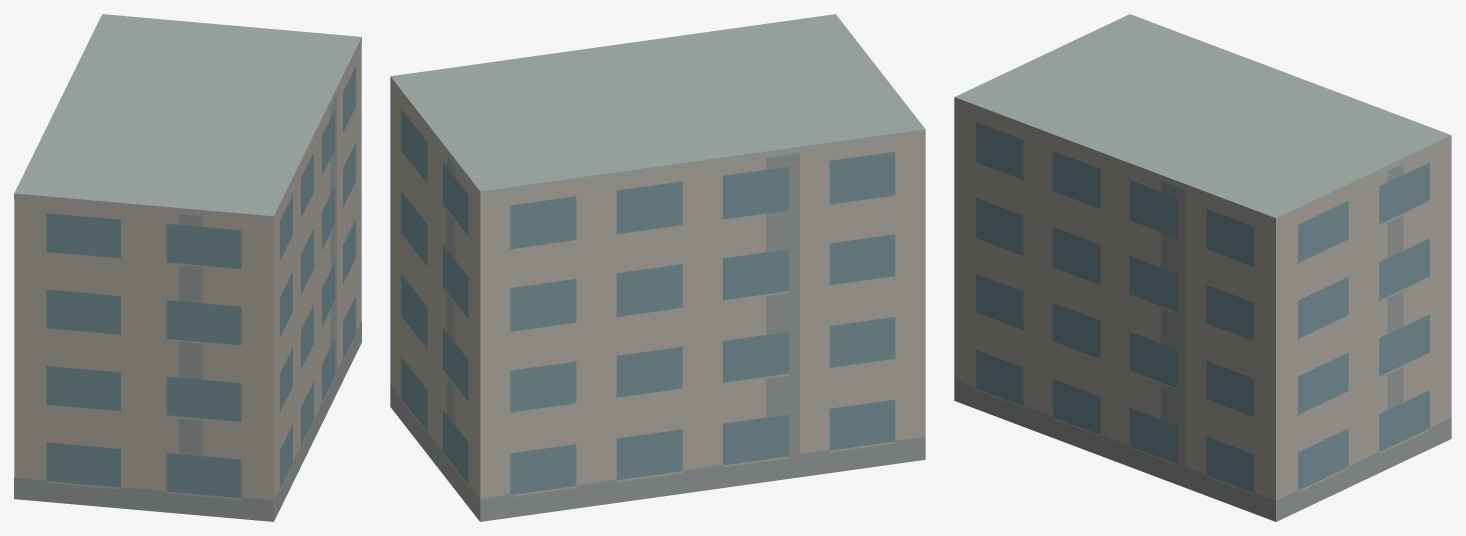
Rendered from residential-5840faee-d104-4194-98ab-d233c8c01d9d.glb.
3 views of the same model, side by side, from view 1: azimuth 30°, elevation 25°; view 2: azimuth 150°, elevation 25°; view 3: azimuth 270°, elevation 25° (orthographic). The views are drawn at different scales.
Parts seen in each view (by area): view 1: residential-5840faee-d104-4194-98ab-d233c8c01d9d.tmp; view 2: residential-5840faee-d104-4194-98ab-d233c8c01d9d.tmp; view 3: residential-5840faee-d104-4194-98ab-d233c8c01d9d.tmp.
Part boxes in pixels (x1,y1,x2,y2): residential-5840faee-d104-4194-98ab-d233c8c01d9d.tmp: (14, 14, 361, 521); residential-5840faee-d104-4194-98ab-d233c8c01d9d.tmp: (390, 14, 925, 521); residential-5840faee-d104-4194-98ab-d233c8c01d9d.tmp: (954, 14, 1451, 521).
Size of the model in its own units: 17.6 by 12.2 by 18.11.
